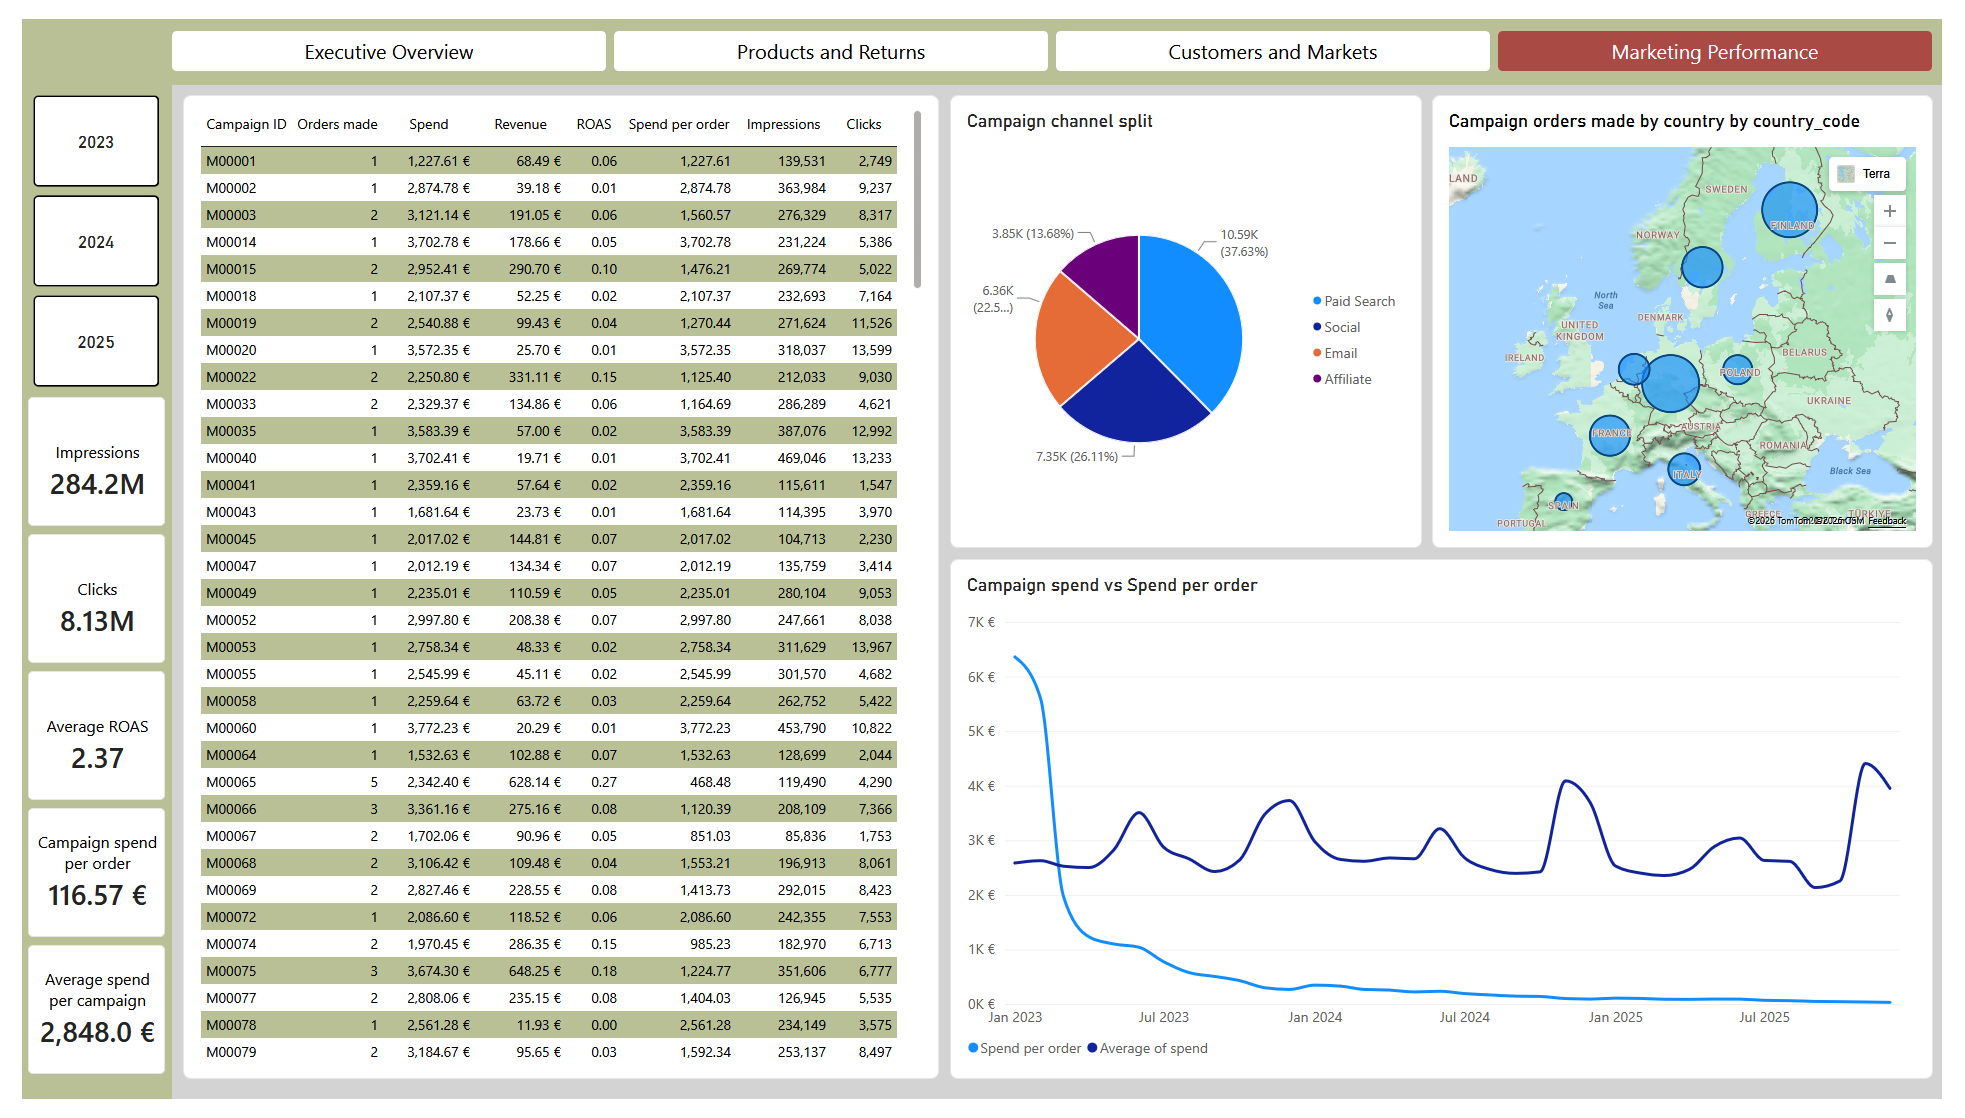

The dashboard page shown, as its layout file describes it:
{"tool":"powerbi","page":{"name":"Marketing Performance","canvas":[1920,1080],"ordinal":3},"visuals":[{"type":"shape","box":[0,0,1920,65.9],"z":0},{"type":"shape","box":[0,0,150.4,1079.8],"z":1000},{"type":"cardVisual","fields":{"Data":["Sum(campaigns.impressions)","Sum(campaigns.clicks)","campaigns.ROAS","campaigns.Cost per purchase","Avg(campaigns.spend)"]},"box":[6.5,377.7,136.4,682.1],"z":2000},{"type":"advancedSlicerVisual","title":"Year Selection","fields":{"Values":["orders.order_date.Variation.Date Hierarchy.Year"]},"box":[6.2,65.5,136.3,312],"z":3000},{"type":"pageNavigator","box":[150.4,12.1,1760.3,39.9],"z":4000},{"type":"tableEx","fields":{"Values":["campaigns.campaign_id","orders.campaign_id","campaigns.spend","Sum(order_items.net_revenue)","select","select1","campaigns.impressions","campaigns.clicks"]},"box":[161.2,75.9,756.1,983.9],"z":5000},{"type":"pieChart","title":"Campaign channel split","fields":{"Category":["campaigns.channel"],"Y":["CountNonNull(orders.campaign_id)"]},"box":[927.8,75.9,472.2,453.5],"z":6000},{"type":"lineChart","title":"Campaign spend vs Spend per order","fields":{"Category":["campaigns.month"],"Y":["campaigns.Cost per purchase","Avg(campaigns.spend)"]},"box":[927.8,539.8,982.9,520],"z":7000},{"type":"azureMap","fields":{"Category":["campaigns.country_code"],"Size":["CountNonNull(orders.campaign_id)"]},"box":[1410.4,75.9,500.3,453.5],"z":8000}]}

Visuals, with their boxes in screenshot pixels (x1, y1, x2, y2), scaled from the page's 1920x1080 canvas onto the 1965x1118 screenshot:
shape: [0, 0, 1964, 68]
shape: [0, 0, 154, 1117]
cardVisual - Sum(campaigns.impressions) x Sum(campaigns.clicks): [7, 391, 146, 1097]
"Year Selection" advancedSlicerVisual: [6, 68, 146, 391]
pageNavigator: [154, 13, 1955, 54]
tableEx - campaigns.campaign_id x orders.campaign_id: [165, 79, 939, 1097]
"Campaign channel split" pieChart: [950, 79, 1433, 548]
"Campaign spend vs Spend per order" lineChart: [950, 559, 1955, 1097]
azureMap - campaigns.country_code x CountNonNull(orders.campaign_id): [1443, 79, 1955, 548]
